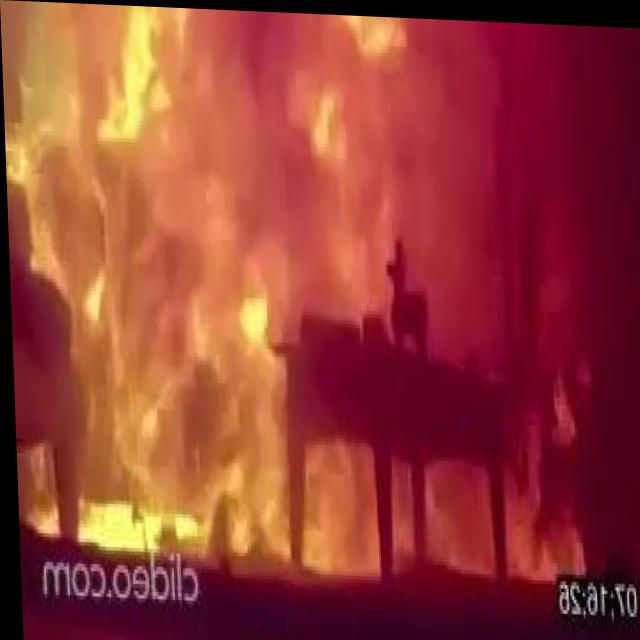fire: (0, 0, 296, 337), (287, 10, 507, 315), (69, 348, 284, 545), (497, 370, 585, 580), (298, 452, 375, 567), (418, 457, 485, 563)
